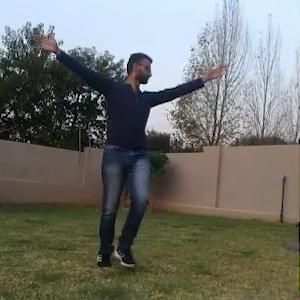takeoff: (35, 26, 230, 270)
